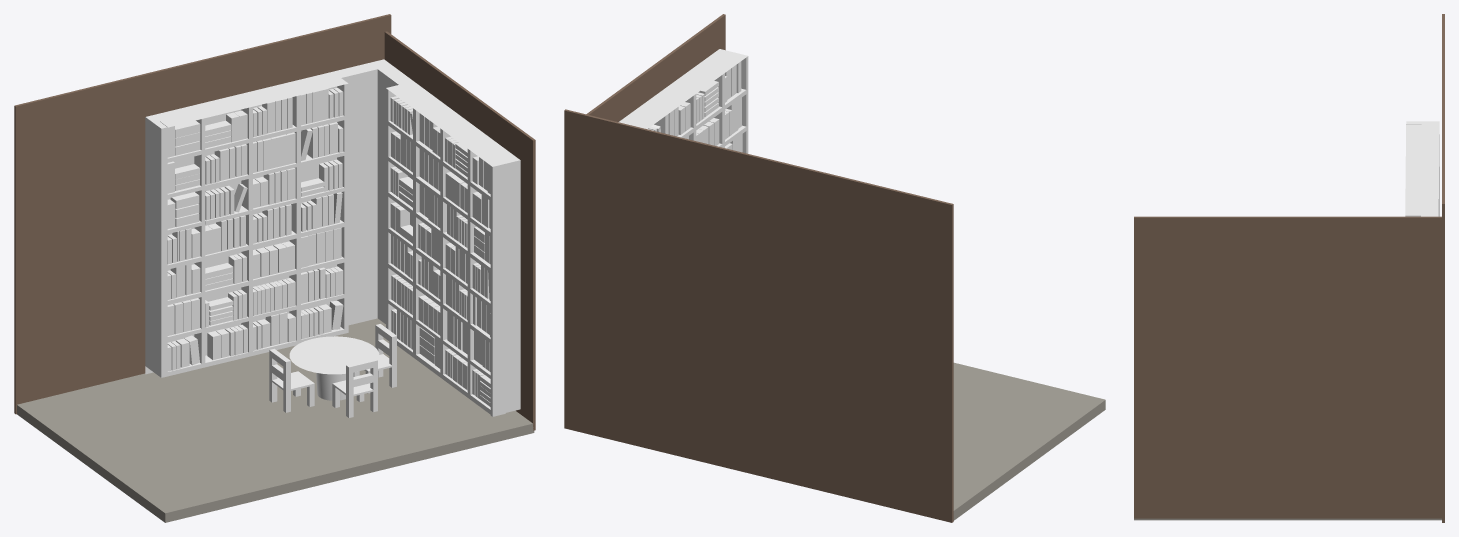
The model's file is literatura.glb.
3 renders of one model, left to right at view 1: azimuth 30°, elevation 25°; view 2: azimuth 150°, elevation 25°; view 3: azimuth 270°, elevation 25°, orthographic. The views are drawn at different scales.
Parts seen in each view (by area): view 1: Cube.004, Cube.001, Cube, Cube.002; view 2: Cube.001, Cube, Cube.004, Cube.002; view 3: Cube.002, Cube.004, Cube.001, Cube.
Boxes of the visible parts, <box> form: Cube.004: <box>145,59,520,417</box>; Cube.001: <box>14,14,391,414</box>; Cube: <box>17,318,534,522</box>; Cube.002: <box>384,31,535,430</box>; Cube.001: <box>564,109,953,522</box>; Cube: <box>953,362,1105,520</box>; Cube.004: <box>618,49,748,153</box>; Cube.002: <box>586,14,725,121</box>; Cube.002: <box>1134,216,1441,518</box>; Cube.004: <box>1405,121,1439,216</box>; Cube.001: <box>1442,14,1444,522</box>; Cube: <box>1134,518,1441,520</box>.
Bounding box in the file's own units: 17.98 × 14.09 × 12.43.
